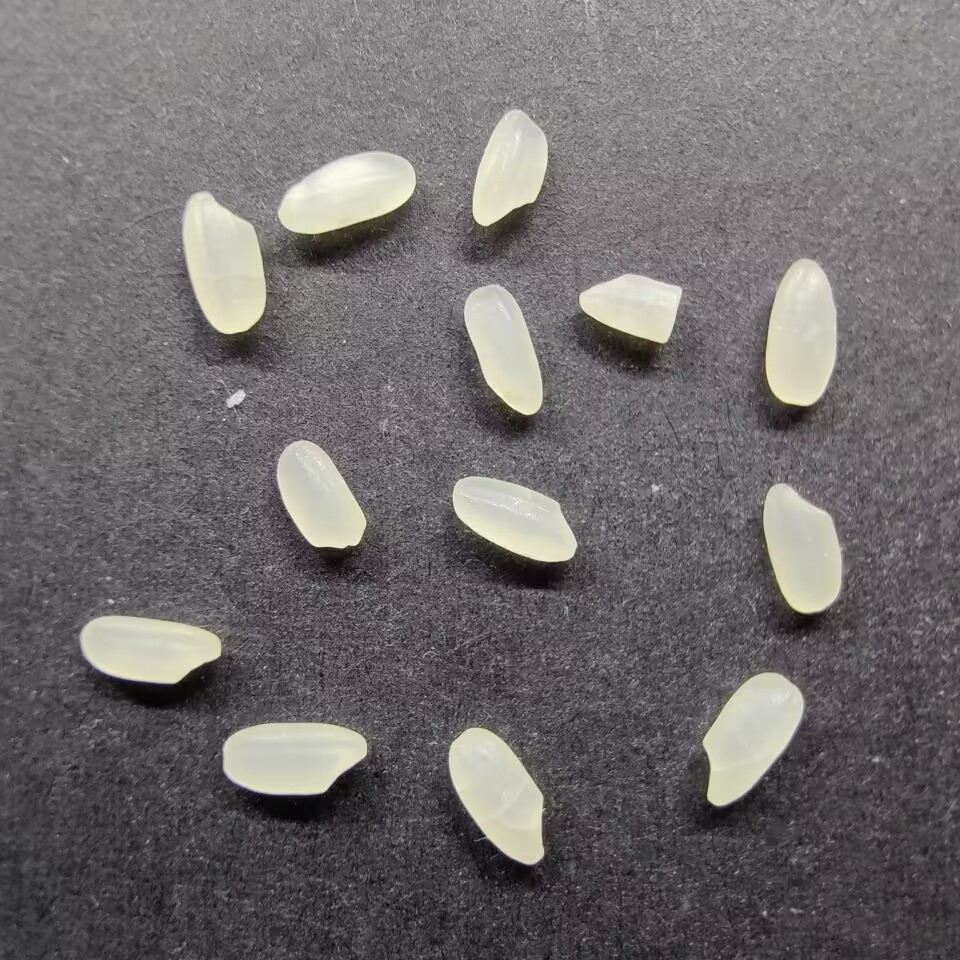broken: (577, 271, 684, 345)
rice: (700, 672, 806, 808), (448, 727, 549, 866), (181, 187, 265, 338), (276, 150, 416, 237), (760, 480, 844, 615), (451, 475, 578, 564), (763, 257, 838, 407), (220, 721, 369, 796), (464, 282, 545, 417), (275, 438, 366, 553), (78, 614, 223, 686), (470, 107, 549, 228)
